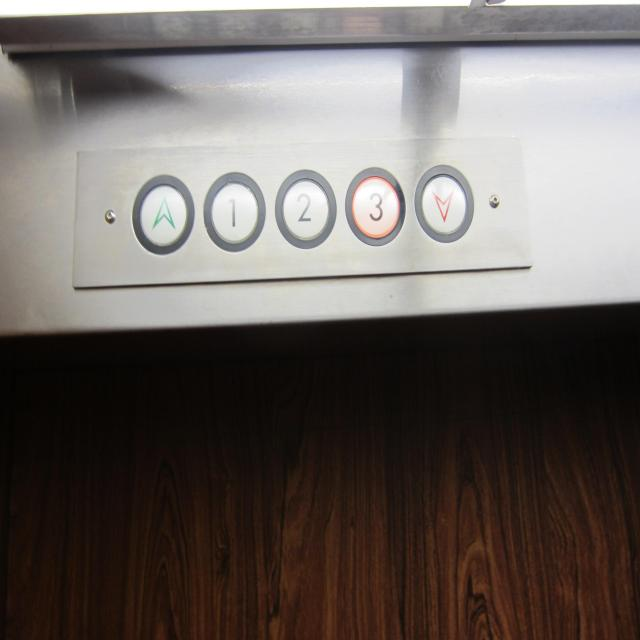1: (202, 173, 266, 254)
2: (274, 169, 338, 250)
3: (344, 167, 406, 245)
down: (415, 164, 475, 243)
up: (132, 174, 195, 254)
